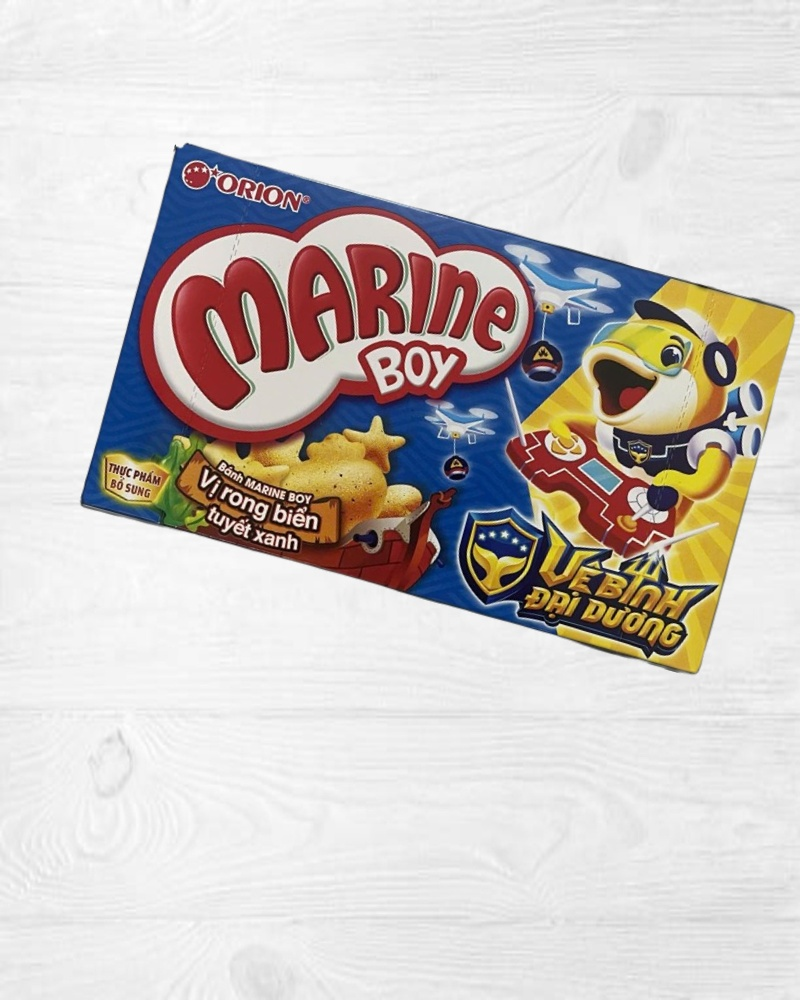Marine: (80, 142, 800, 678)
